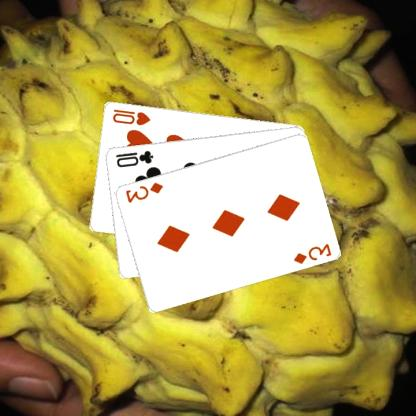10C: (114, 147, 156, 168)
10H: (112, 106, 153, 127)
3D: (124, 180, 166, 204), (292, 241, 334, 265)
